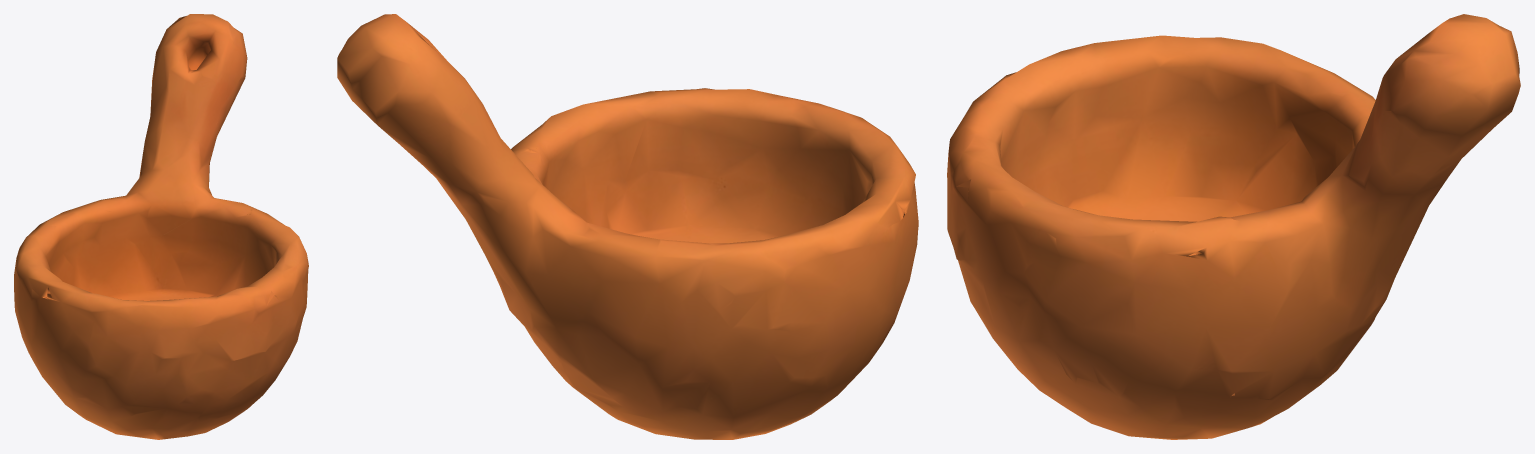
File: ladle.glb
3 renders of one model, left to right at view 1: azimuth 30°, elevation 25°; view 2: azimuth 150°, elevation 25°; view 3: azimuth 270°, elevation 25°, orthographic. The views are drawn at different scales.
Visible parts, largest first — view 1: tripo_node_c48b510e-ce6c-475d-aae7-7e4cdc343fb4; view 2: tripo_node_c48b510e-ce6c-475d-aae7-7e4cdc343fb4; view 3: tripo_node_c48b510e-ce6c-475d-aae7-7e4cdc343fb4.
Boxes of the visible parts, box(x1,y1,x2,y2) form: tripo_node_c48b510e-ce6c-475d-aae7-7e4cdc343fb4: box(14, 14, 308, 439); tripo_node_c48b510e-ce6c-475d-aae7-7e4cdc343fb4: box(337, 14, 918, 439); tripo_node_c48b510e-ce6c-475d-aae7-7e4cdc343fb4: box(947, 14, 1520, 439).
Size of the model in its own units: 0.9549 by 0.9102 by 1.
1 material, 1 textured.
